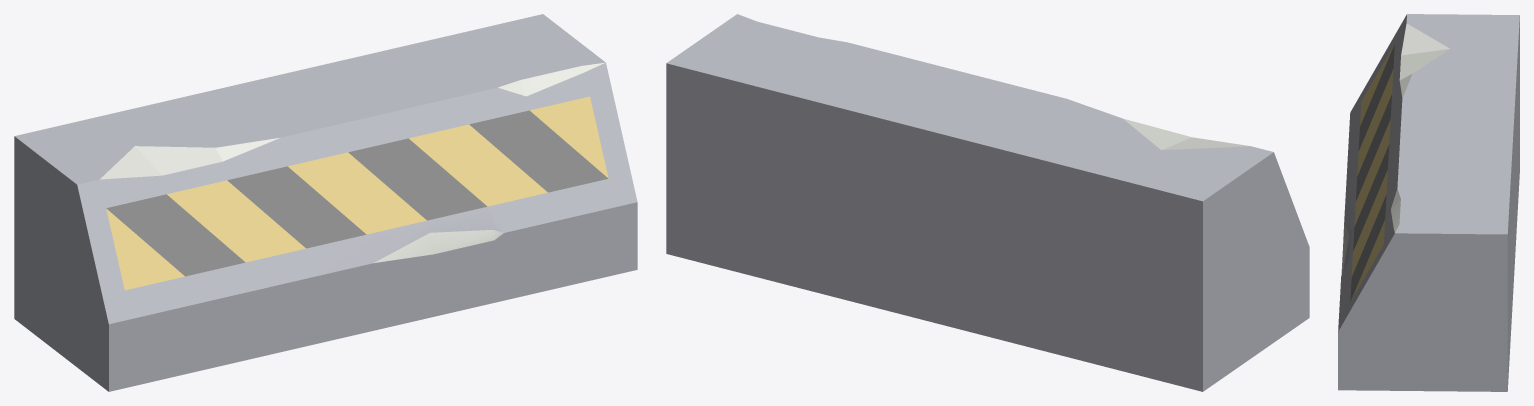
File: Barrier_Single.fbx
3 renders of one model, left to right at view 1: azimuth 30°, elevation 25°; view 2: azimuth 150°, elevation 25°; view 3: azimuth 270°, elevation 25°, orthographic. The views are drawn at different scales.
Visible parts, largest first — view 1: Barrier_Single.001; view 2: Barrier_Single.001; view 3: Barrier_Single.001.
Part boxes in pixels (bbox=[...]): Barrier_Single.001: bbox=[14, 14, 637, 391]; Barrier_Single.001: bbox=[666, 14, 1309, 391]; Barrier_Single.001: bbox=[1338, 14, 1519, 391].
Bounding box in the file's own units: 1.89 × 0.6281 × 0.6569.
